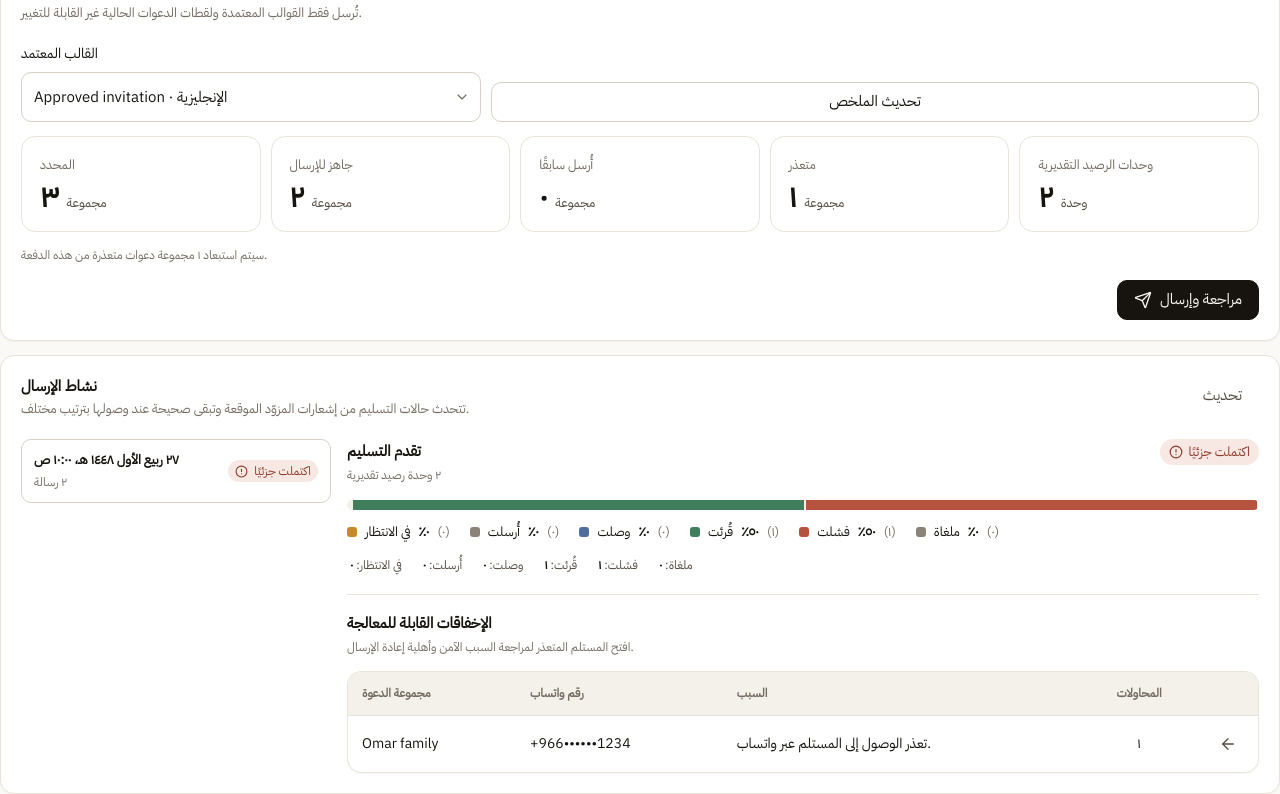
Test: event sending center › maps provider and resend reason codes to Arabic-safe copy
(page scrolled)
Click the button named "فتح تفاصيل إخفاق Omar family": (1228, 744) left=1212, top=728, right=1244, bottom=760
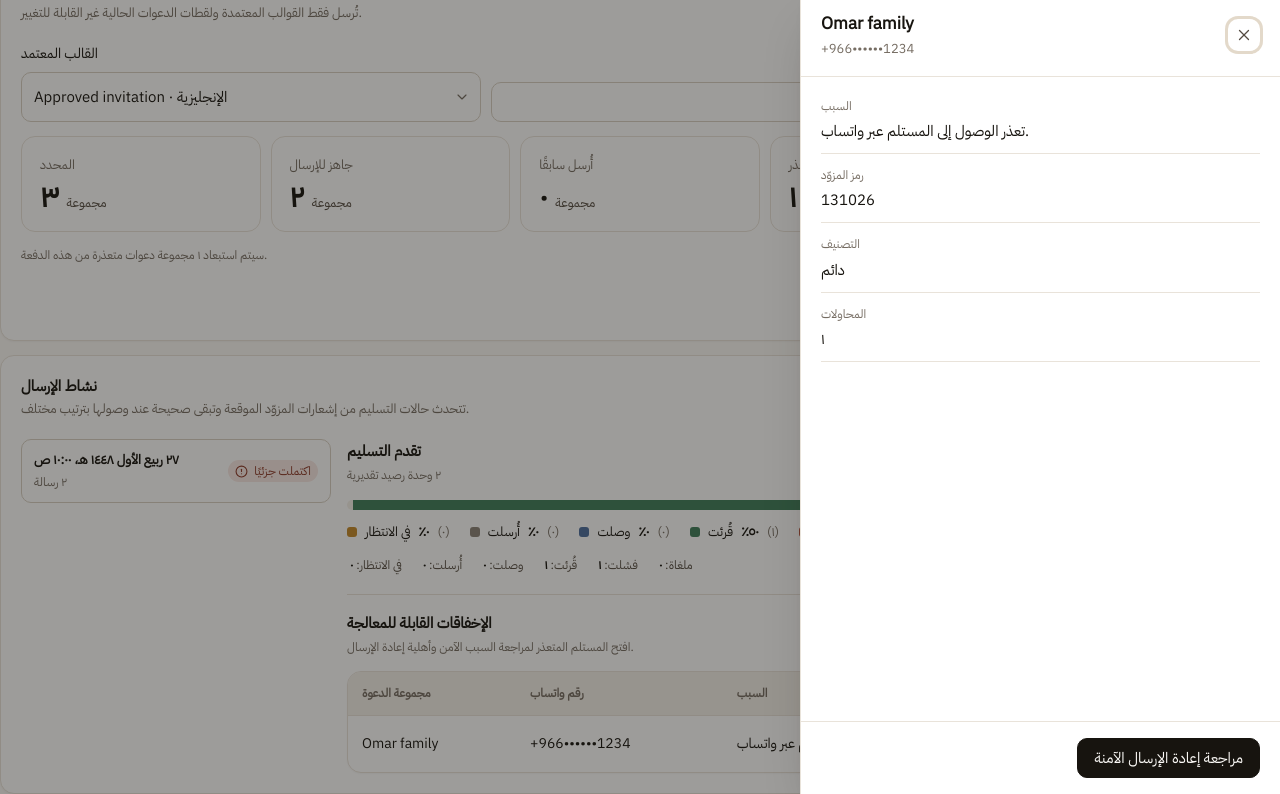
expect the text "تعذر الوصول إلى المستلم عبر واتساب." is shown: met, box left=723, top=716, right=1080, bottom=772
Click the button "مراجعة إعادة الإرسال الآمنة": (1169, 758) left=1078, top=738, right=1260, bottom=778
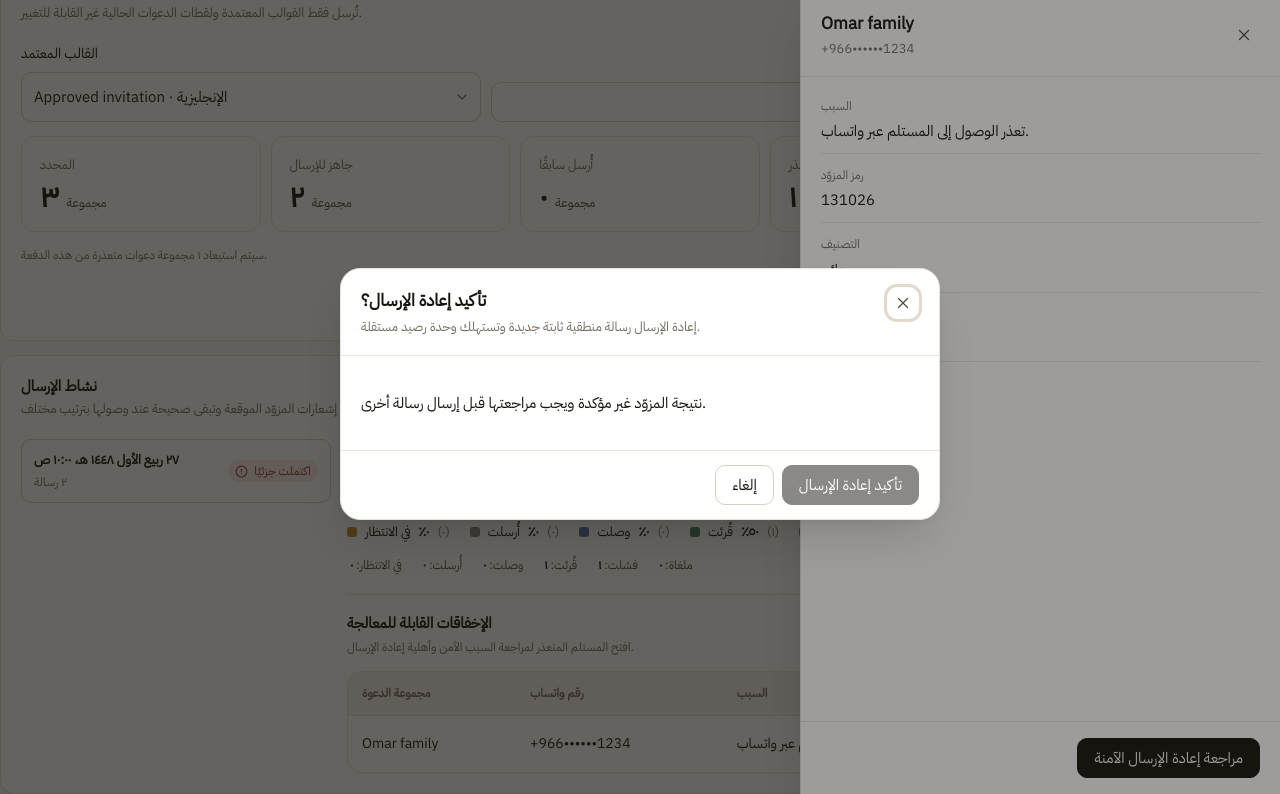
expect the text "نتيجة المزوّد غير مؤكدة ويجب مراجعتها قبل إرسال رسالة أخرى." is shown: met, box left=361, top=392, right=706, bottom=414
